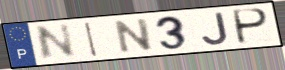3: (154, 14, 194, 52)
I: (83, 20, 99, 58)
J: (199, 11, 231, 47)
N: (34, 22, 78, 63), (113, 17, 155, 55)
P: (233, 7, 271, 46)
